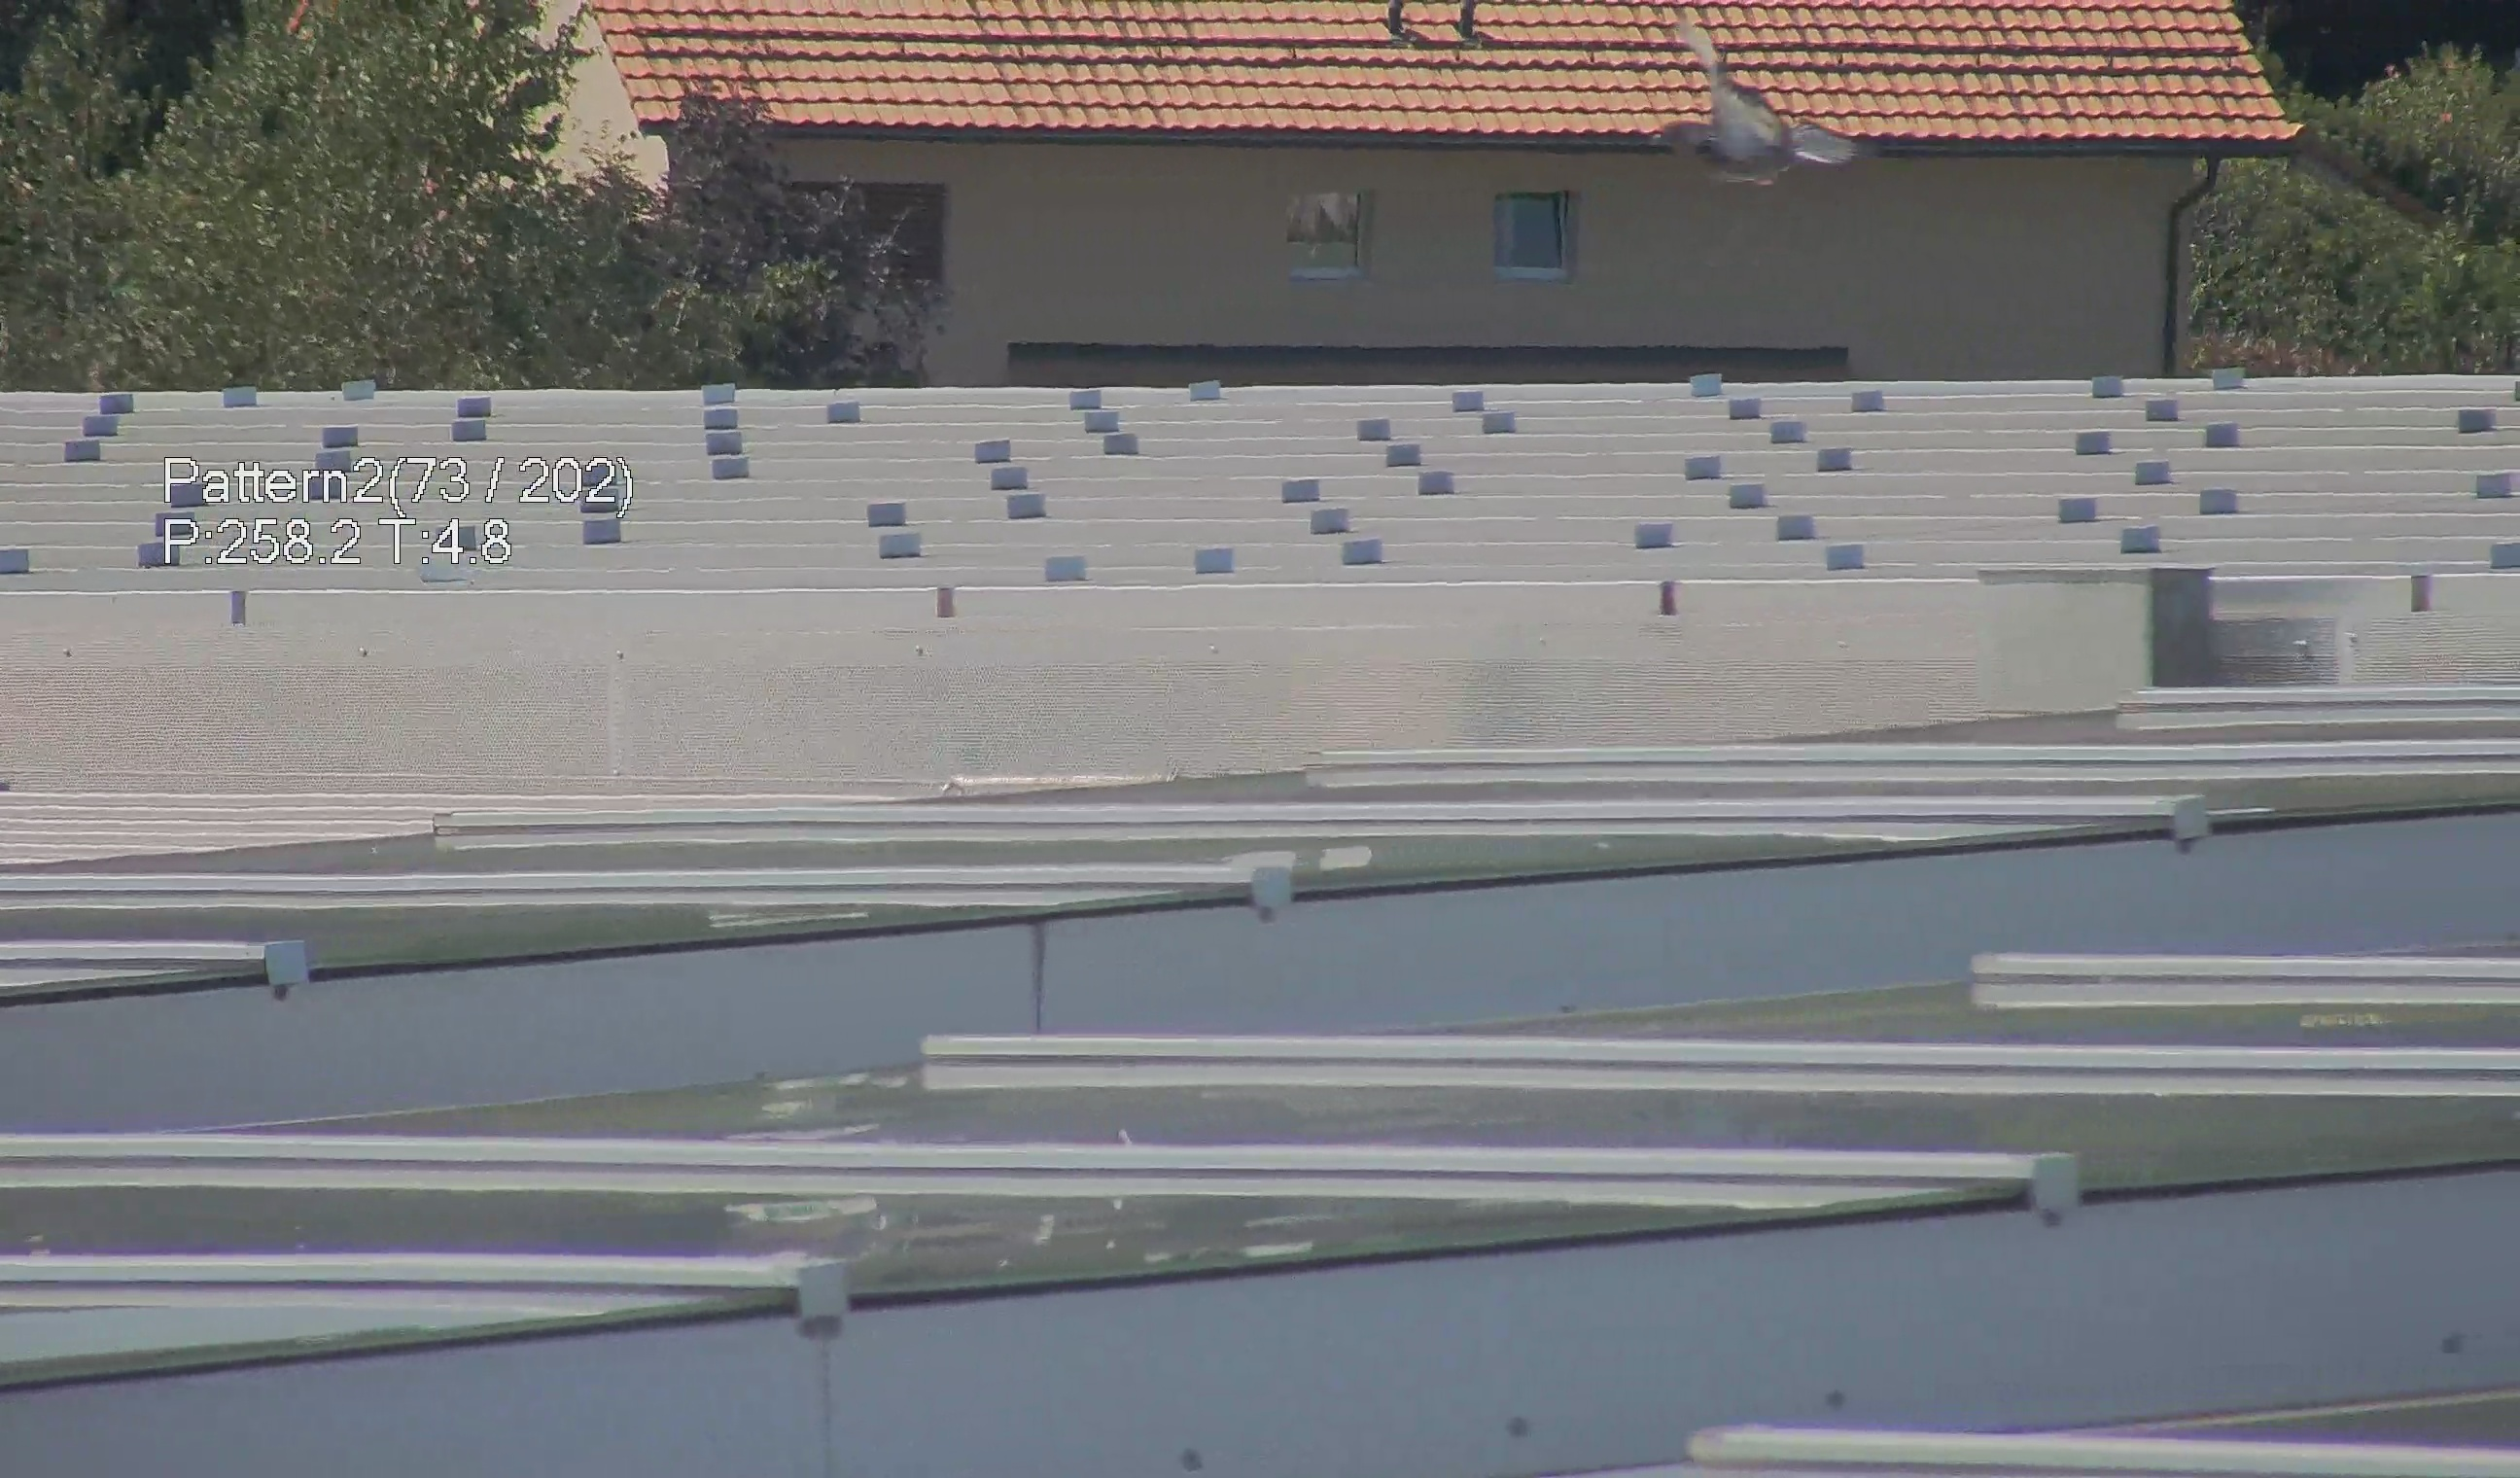Pigeon: (1669, 33, 1846, 194)
